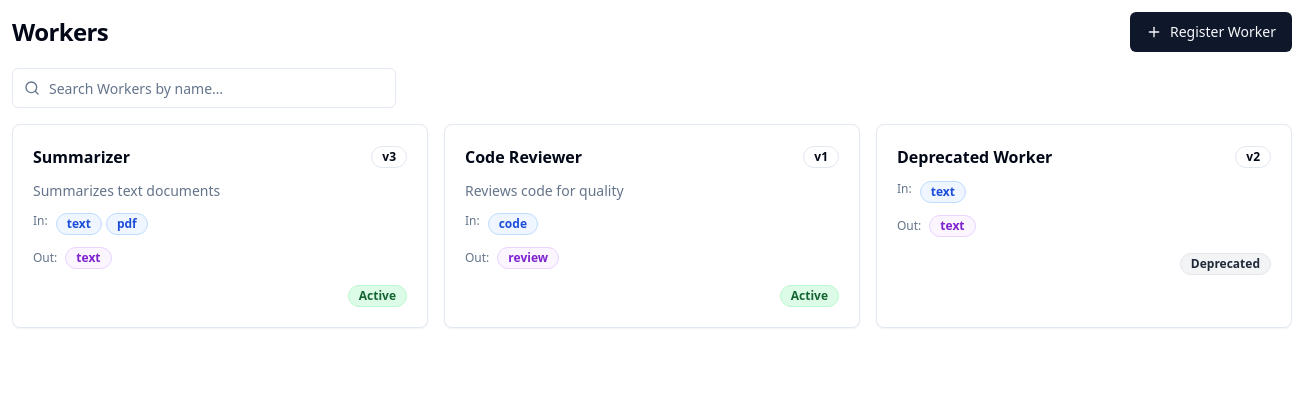
Test case: WorkerListPage › Search › shows no results state when search returns empty
Expected: the heading "Summarizer" is shown, [33,145,130,169]
In the field with placeholder "Search Workers by name…": (204, 88) [12,68,396,108], type "nonexistent"
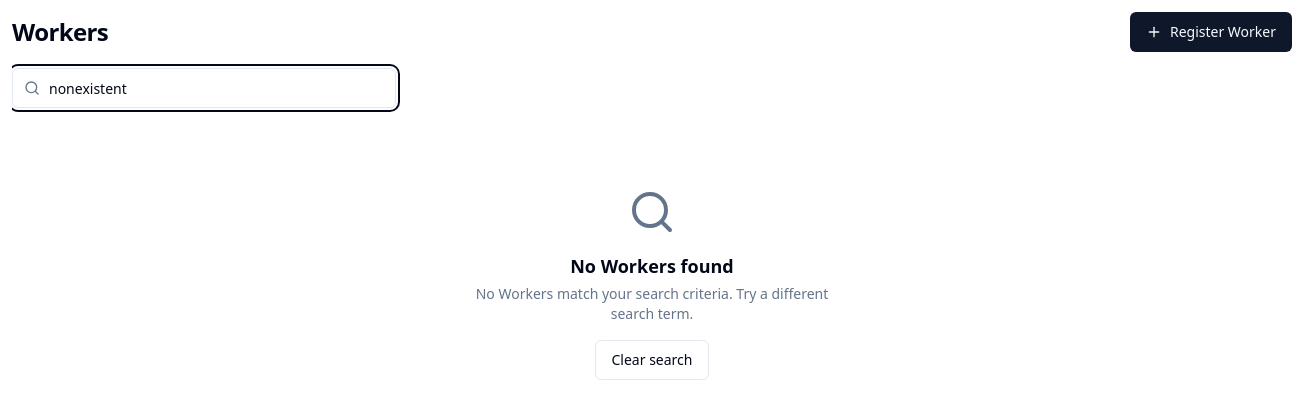
Now the heading "No Workers found" is shown, box [570,252,734,280]
